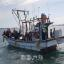fishing boat: (1, 6, 64, 54)
